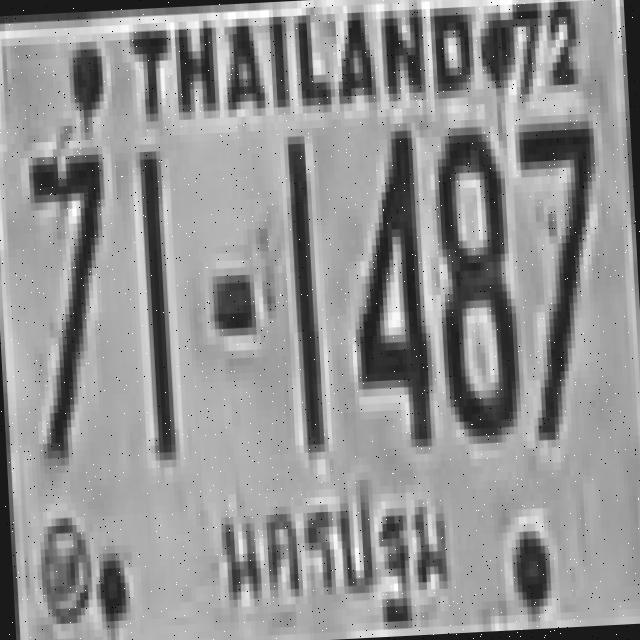1: (284, 136, 320, 453), (136, 148, 172, 456)
4: (345, 123, 431, 442)
7: (514, 114, 605, 433), (24, 147, 114, 459), (514, 114, 603, 396)
8: (428, 119, 518, 438)
NakhonPathom: (201, 470, 459, 640)
